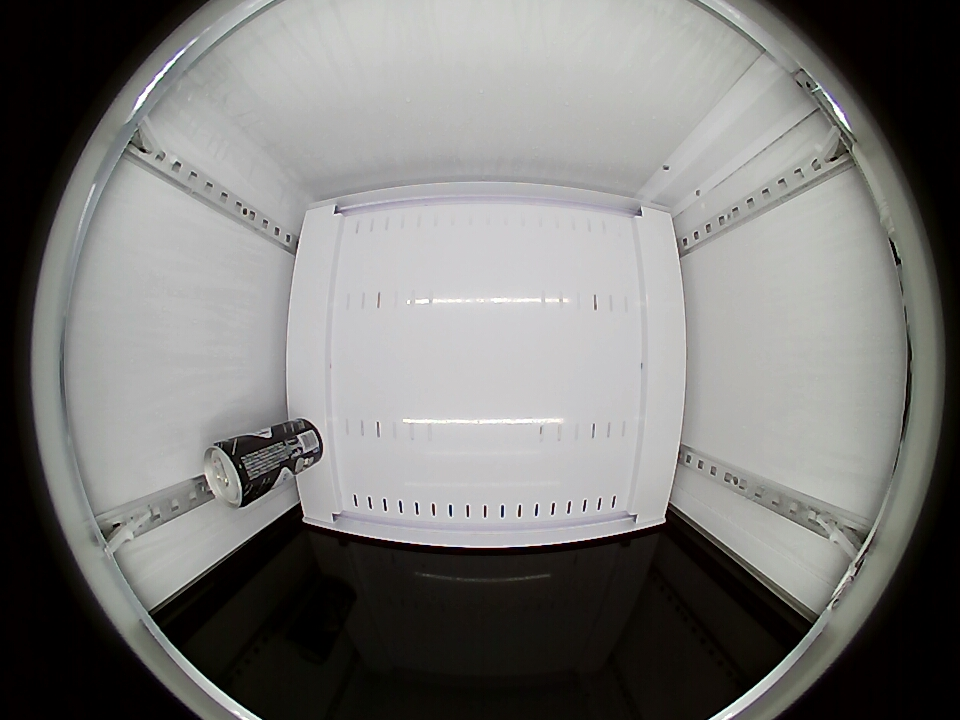qingdaowangzi-1: (202, 437, 263, 508)
